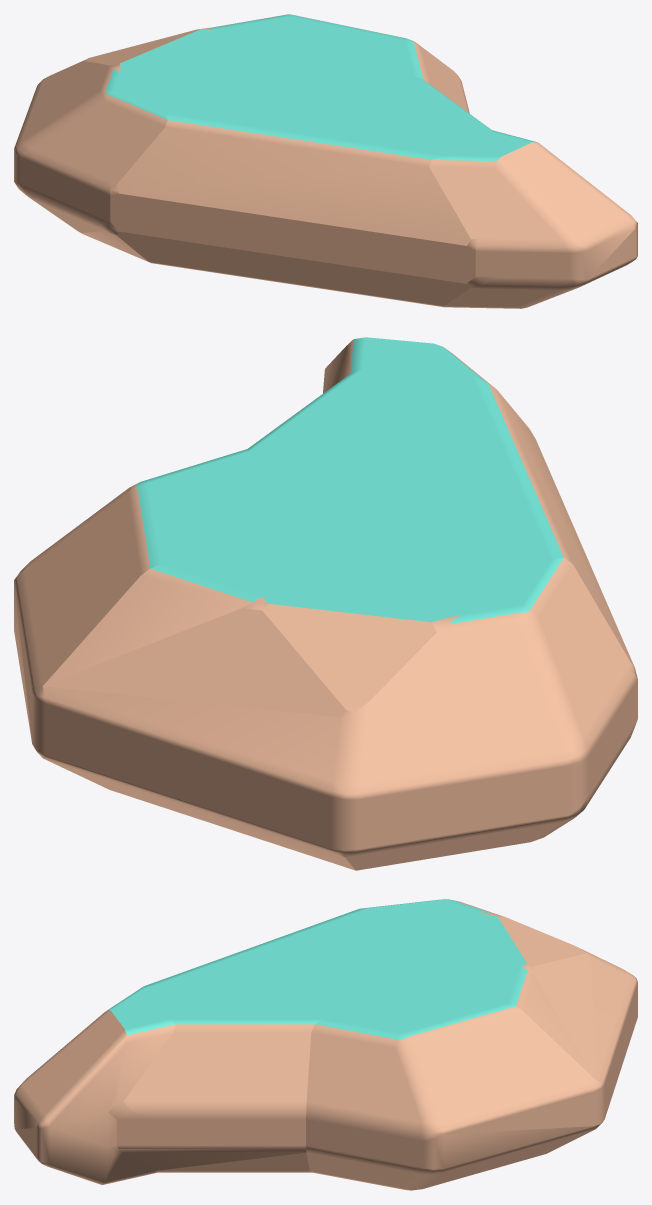
File: rock_largeA.glb
The picture shows the model from 3 angles, top to bottom: view 1: azimuth 30°, elevation 25°; view 2: azimuth 150°, elevation 25°; view 3: azimuth 270°, elevation 25°; orthographic projection. The views are drawn at different scales.
Visible parts, largest first — view 1: rock_largeA; view 2: rock_largeA; view 3: rock_largeA.
Part boxes in pixels (bbox=[...]): rock_largeA: bbox=[14, 14, 637, 308]; rock_largeA: bbox=[14, 337, 637, 870]; rock_largeA: bbox=[14, 899, 637, 1190].
Size of the model in its own units: 0.775 by 0.2598 by 1.01.
